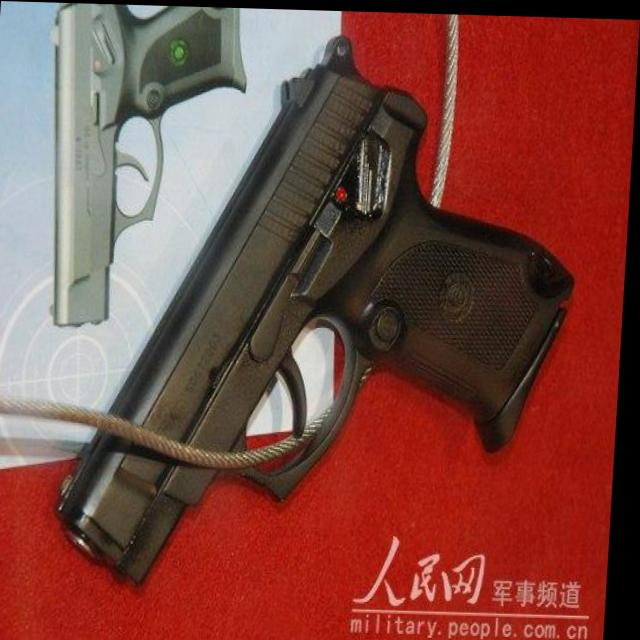handgun: (53, 20, 587, 593), (34, 1, 252, 329)
